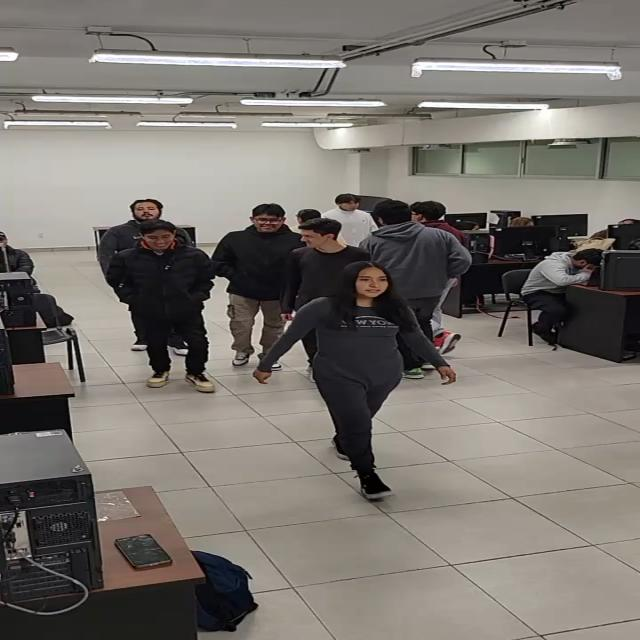Persona: (263, 259, 437, 508), (101, 215, 217, 397), (219, 199, 296, 383), (382, 200, 457, 381)
